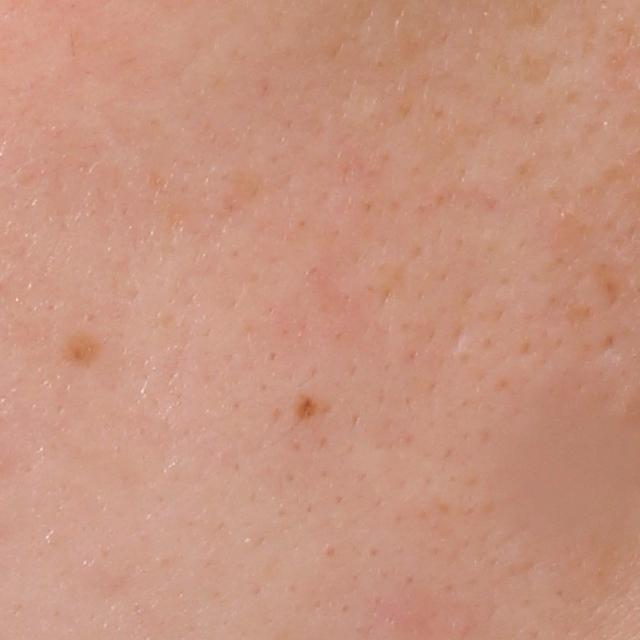nevus: (294, 391, 320, 425)
